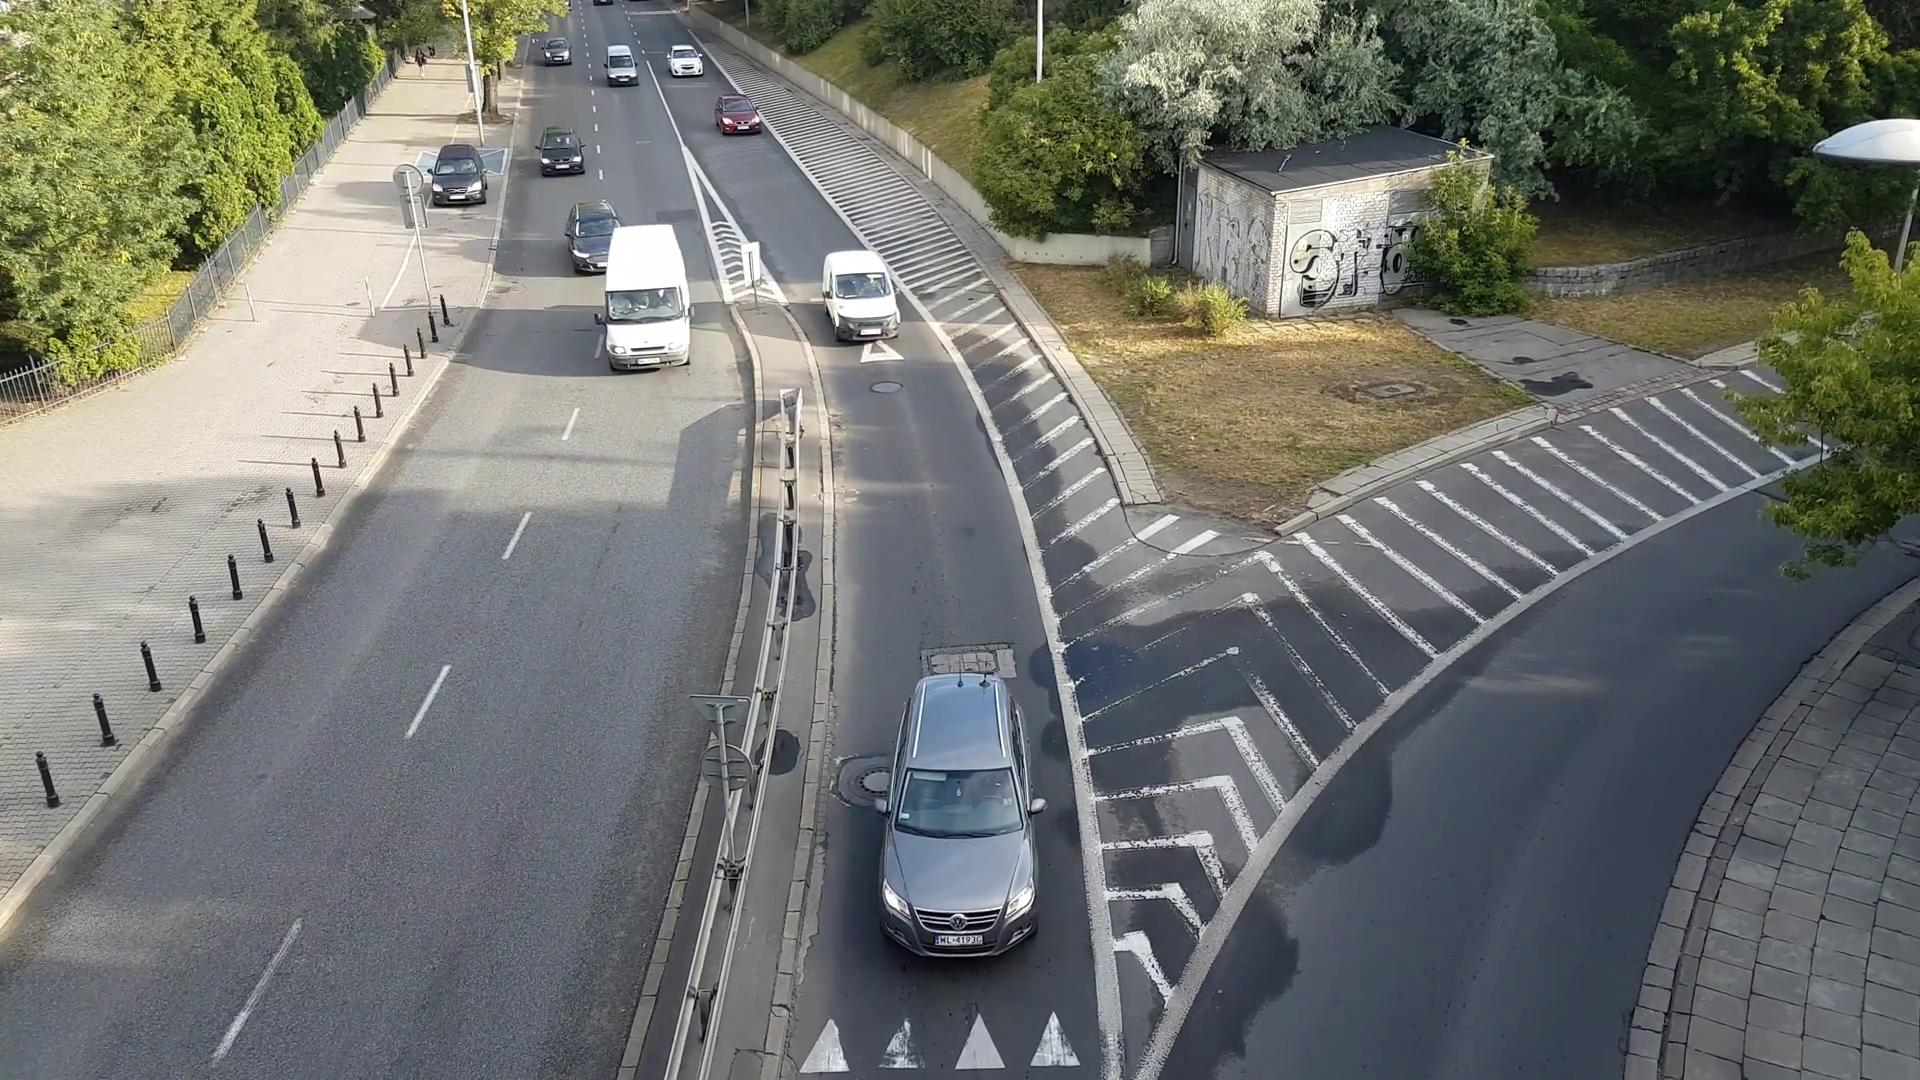car: (882, 674, 1039, 975), (597, 216, 698, 376), (814, 243, 907, 342), (562, 193, 626, 280), (429, 136, 496, 212), (535, 123, 592, 178), (712, 94, 765, 138), (604, 42, 644, 91), (663, 42, 709, 79), (541, 37, 574, 67)
